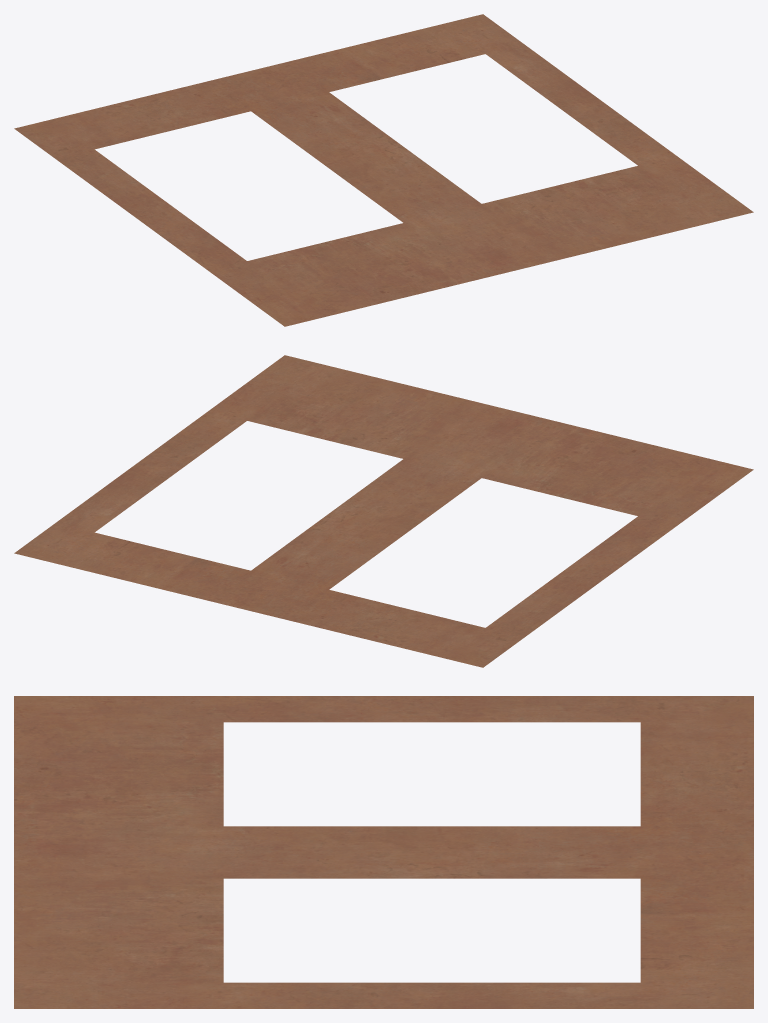
Rendered from wall_window_centered_double_02.gltf.
The picture shows the model from 3 angles, top to bottom: view 1: azimuth 30°, elevation 25°; view 2: azimuth 150°, elevation 25°; view 3: azimuth 270°, elevation 25°; orthographic projection. The views are drawn at different scales.
Parts seen in each view (by area): view 1: wall_window_centered_double_02; view 2: wall_window_centered_double_02; view 3: wall_window_centered_double_02.
Part boxes in pixels (box(x1,y1,x2,y2)): wall_window_centered_double_02: box(14, 14, 753, 326); wall_window_centered_double_02: box(14, 355, 753, 667); wall_window_centered_double_02: box(14, 696, 753, 1008).
Size of the model in its own units: 3 by 6.66e-16 by 3.
Materials: 1 (1 with a texture image).
